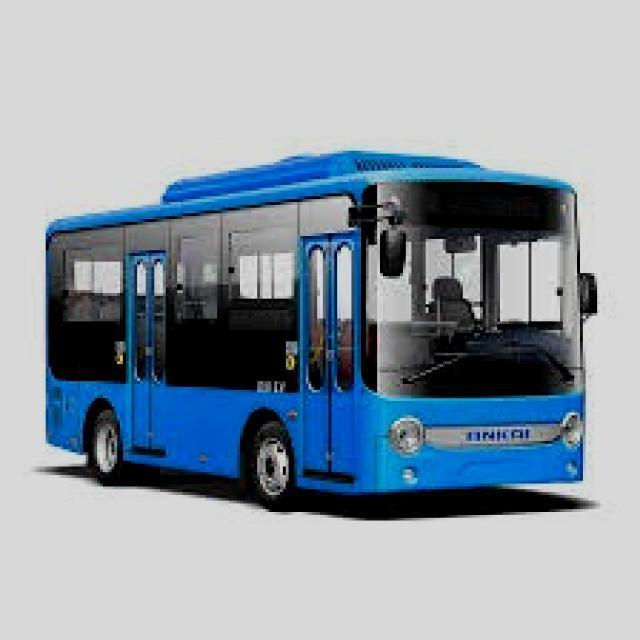Bus: (38, 139, 608, 558)
